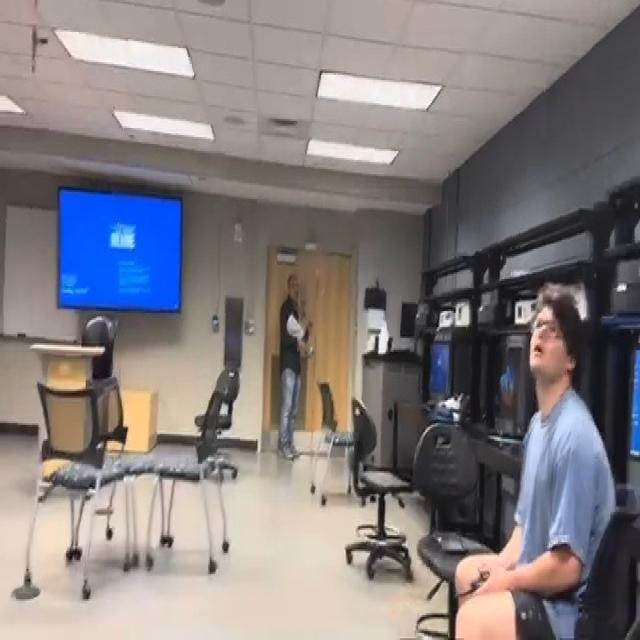drone: (289, 330, 322, 368)
